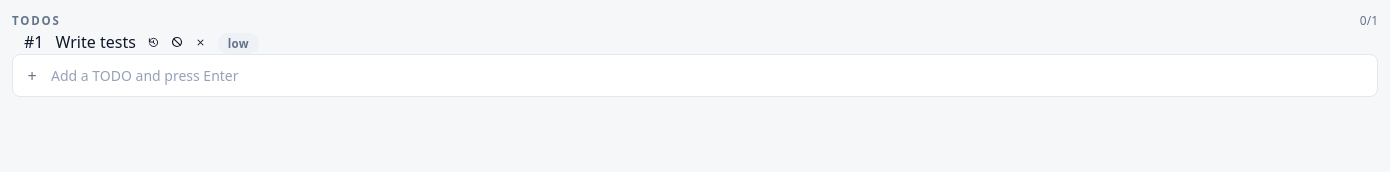
Test: TodosSection title tap-to-edit › touch: a single tap enters edit mode once, even for a double-tap
Double-click the button "Write tests" at [96, 42], box [56,30,136,54]
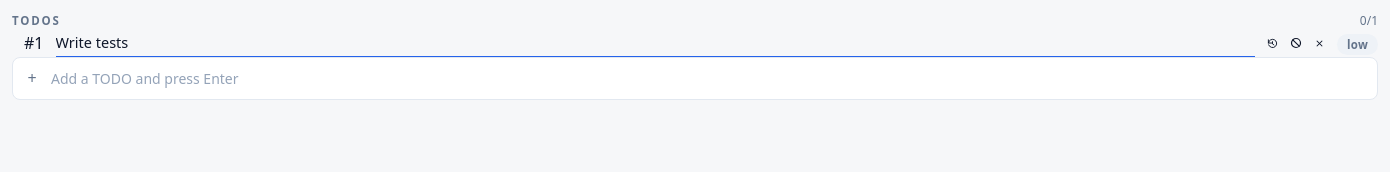
Expected: the number of fields showing "Write tests" is 1, [56,30,1255,57]
